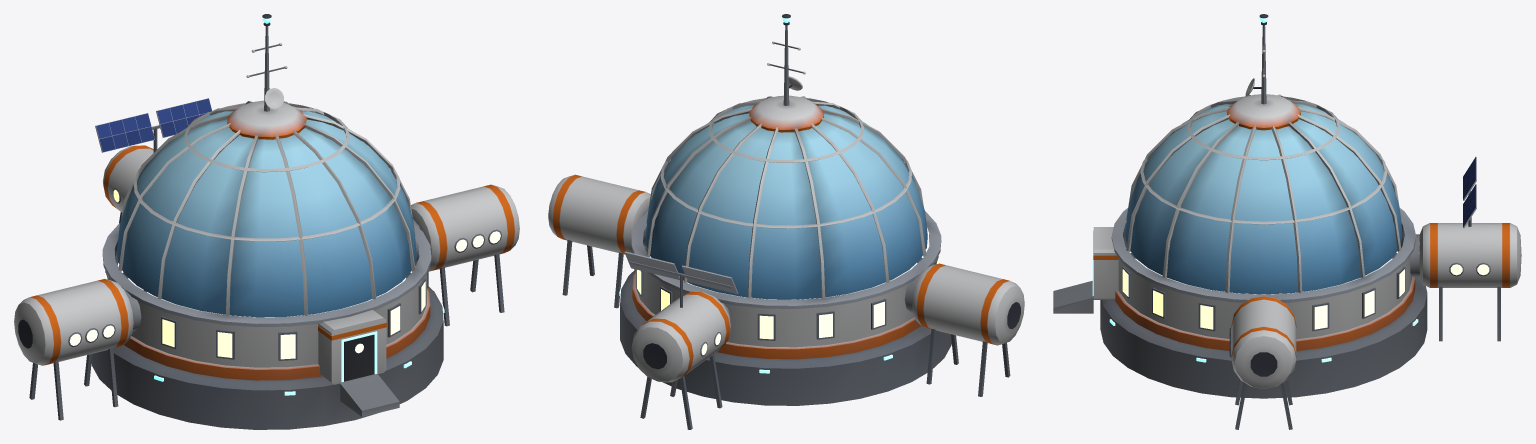
The model's file is star_dome.glb.
The picture shows the model from 3 angles, left to right: view 1: azimuth 30°, elevation 25°; view 2: azimuth 150°, elevation 25°; view 3: azimuth 270°, elevation 25°; orthographic projection. The views are drawn at different scales.
Visible parts, largest first — view 1: star_dome; view 2: star_dome; view 3: star_dome.
Boxes of the visible parts, box(x1,y1,x2,y2) form: star_dome: box(14, 14, 519, 429); star_dome: box(548, 14, 1024, 429); star_dome: box(1053, 14, 1521, 429).
Bounding box in the file's own units: 23.01 × 15.51 × 20.9.
